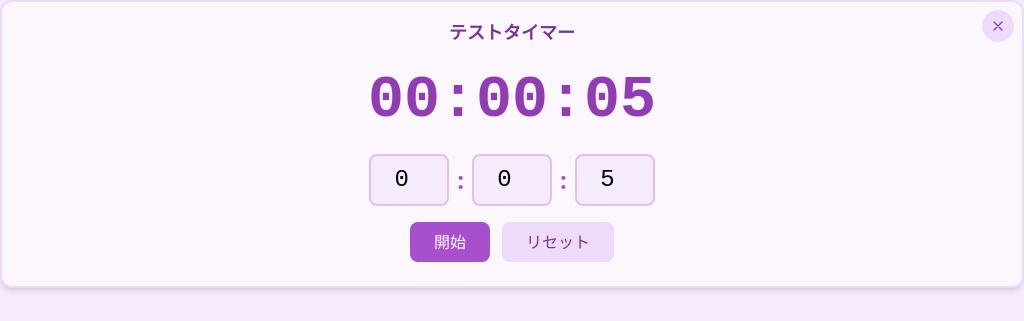
Test: TimerCard › 3.2 タイマー名の編集機能 › タイマー名をクリックすると編集モードになる
Click the button with test id "timer-name" at (512, 32), box [449,18,575,46]
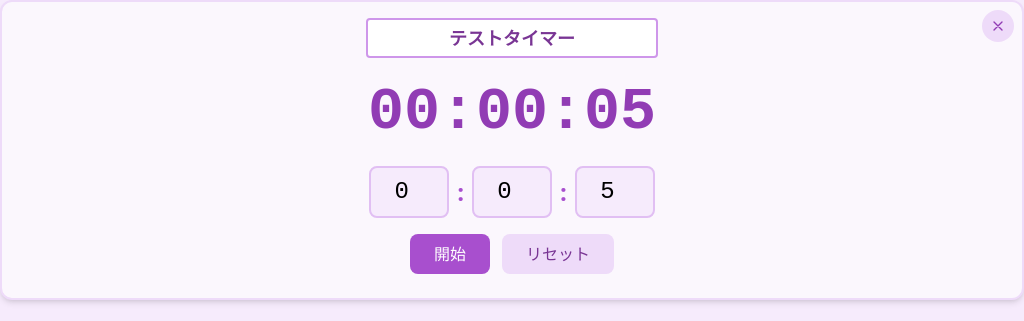
Check: the field with test id "timer-name-input" is shown, box [366,18,658,58]
